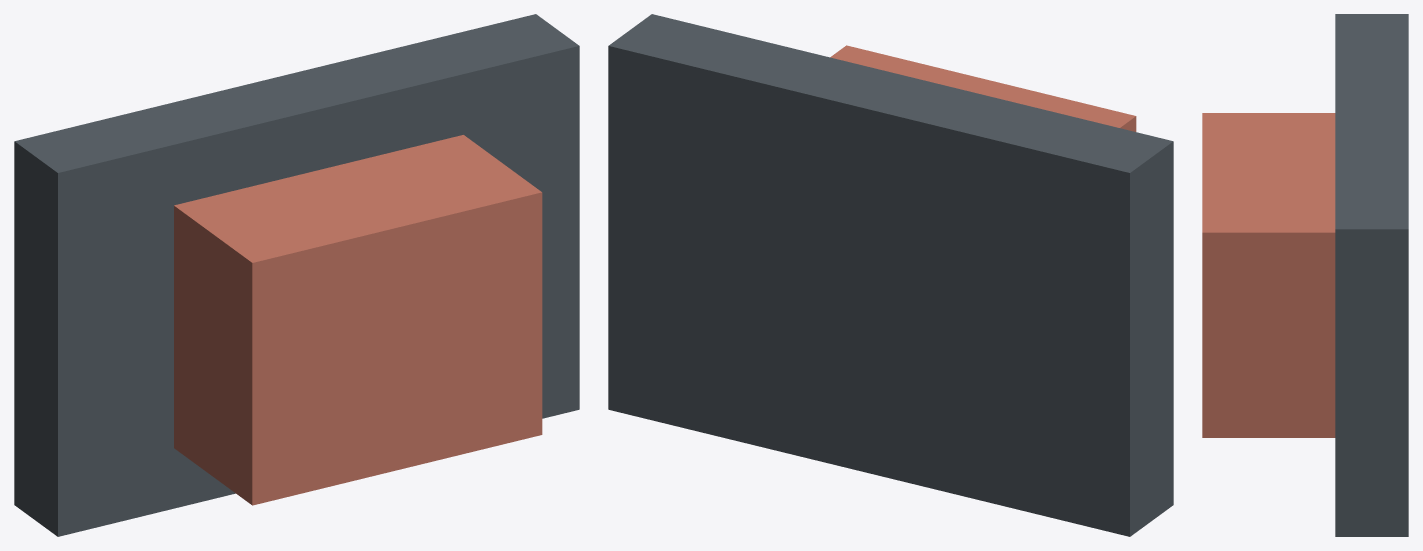
The picture shows the model from 3 angles, left to right: view 1: azimuth 30°, elevation 25°; view 2: azimuth 150°, elevation 25°; view 3: azimuth 270°, elevation 25°; orthographic projection. The views are drawn at different scales.
Visible parts, largest first — view 1: PART_000_Ceramic_Black, PART_001_Fault_Red; view 2: PART_000_Ceramic_Black, PART_001_Fault_Red; view 3: PART_001_Fault_Red, PART_000_Ceramic_Black.
Boxes of the visible parts, x1,y1,x2,y2 form: PART_000_Ceramic_Black: [14, 14, 579, 536]; PART_001_Fault_Red: [174, 135, 542, 505]; PART_000_Ceramic_Black: [608, 14, 1173, 536]; PART_001_Fault_Red: [830, 45, 1136, 131]; PART_001_Fault_Red: [1202, 113, 1335, 437]; PART_000_Ceramic_Black: [1335, 14, 1408, 536].
Bounding box in the file's own units: 0.009 × 0.006 × 0.00365.
